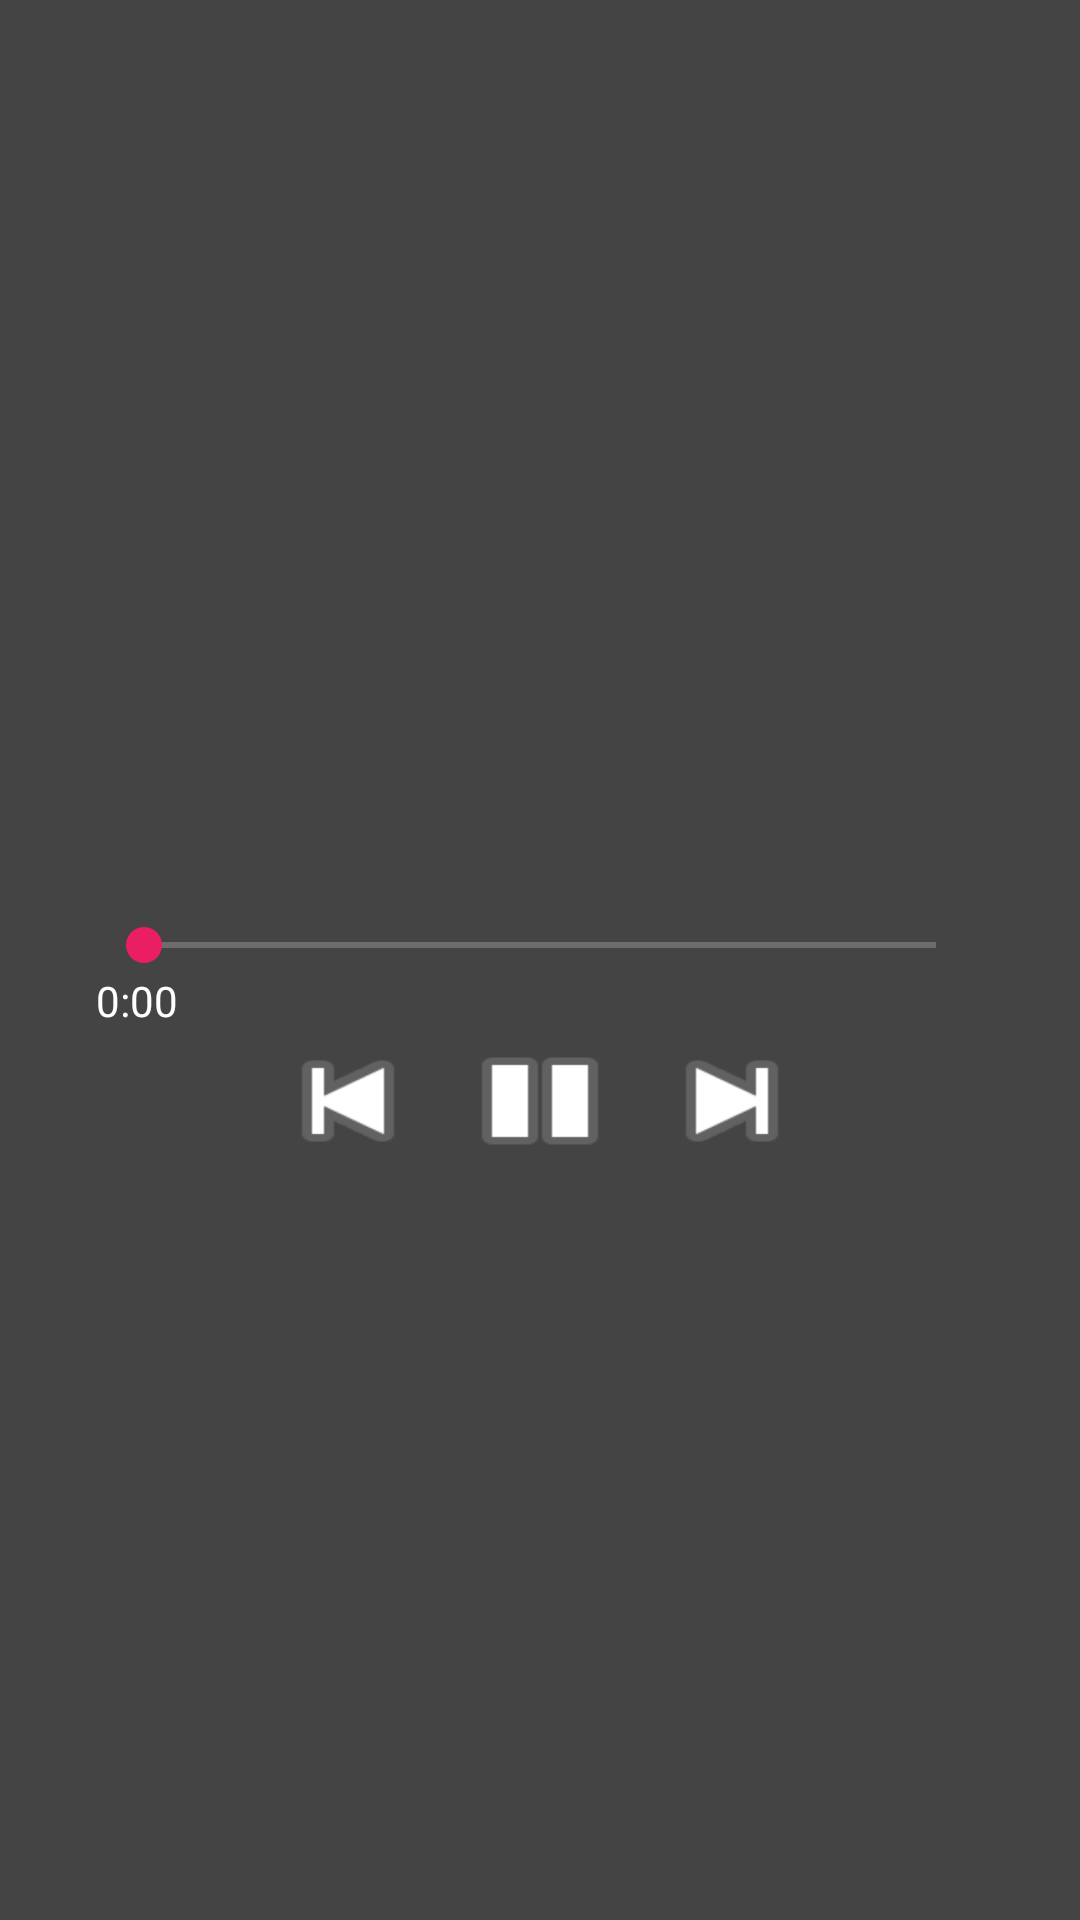

Named icons in this screenshot (1080px×1920px) and their bounding boxes, (x1, y1, x2, y2):
next: (687, 1061, 777, 1141)
pause: (483, 1058, 597, 1144)
previous: (303, 1061, 393, 1141)
